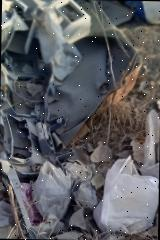plastic: (96, 155, 157, 231), (32, 161, 72, 220)
